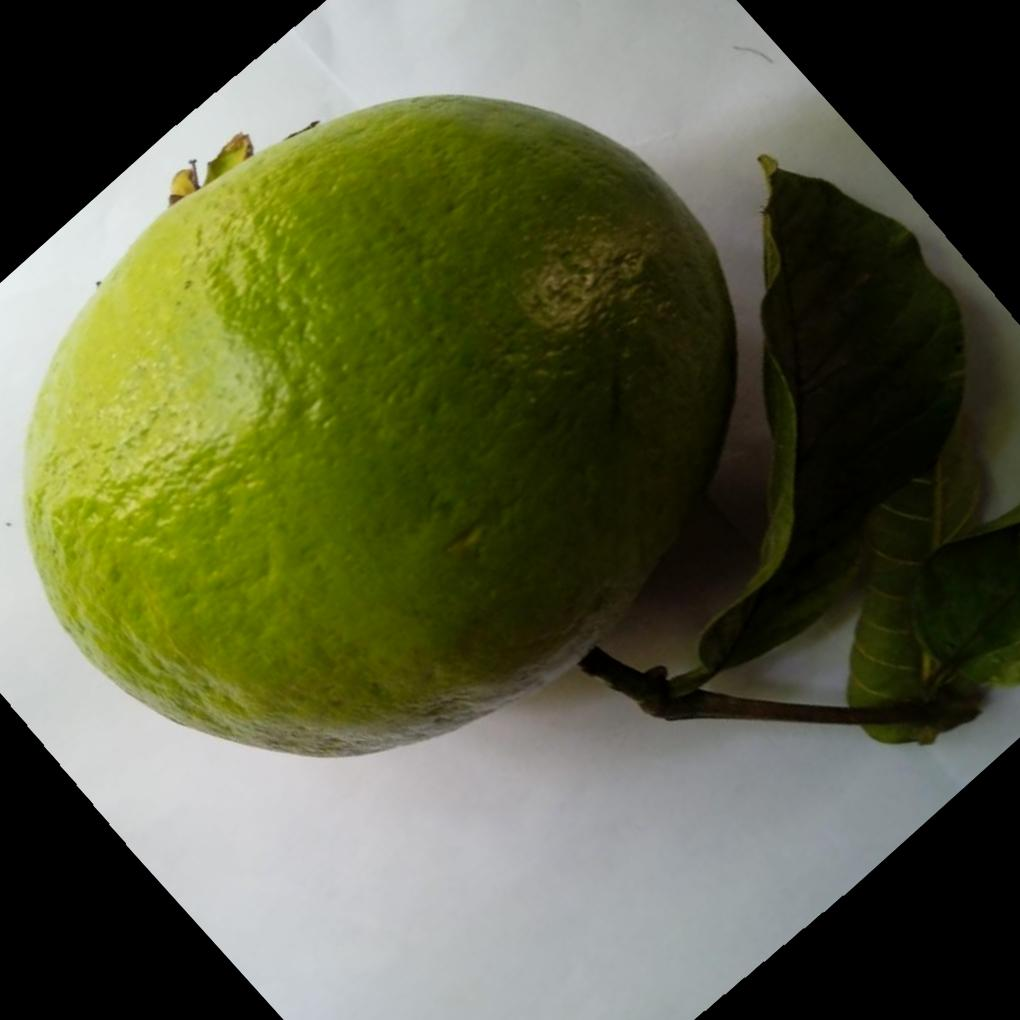FreshGuava: (14, 93, 736, 761)
